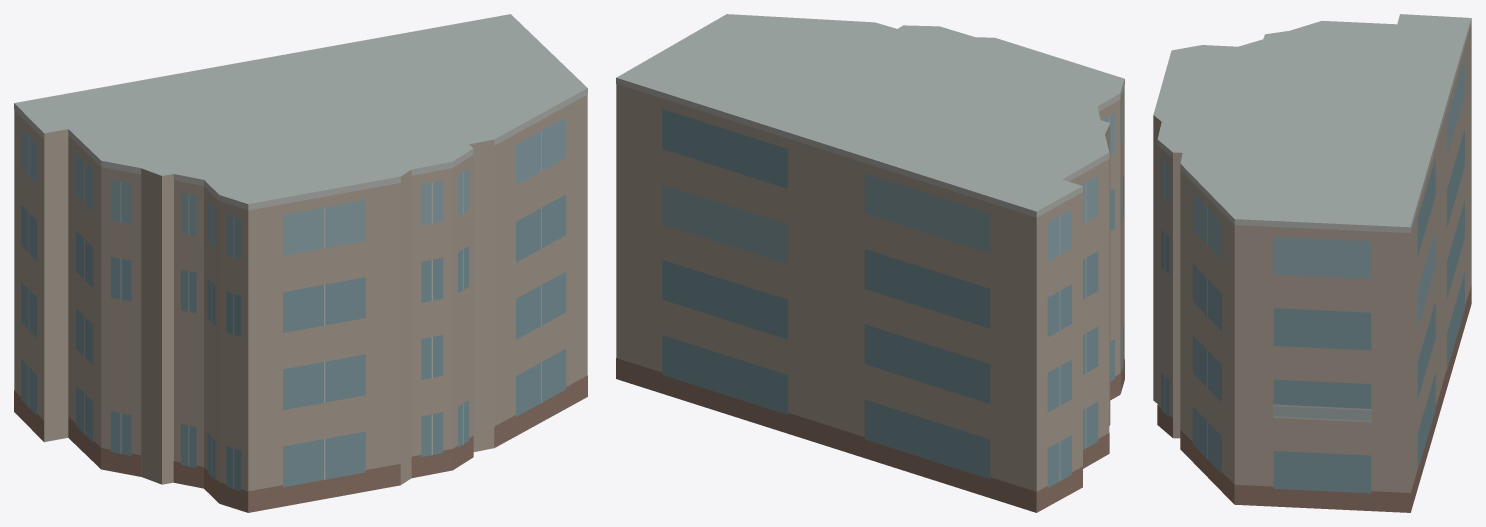
The model's file is survey-upis-32997244.glb.
3 views of the same model, side by side, from view 1: azimuth 30°, elevation 25°; view 2: azimuth 150°, elevation 25°; view 3: azimuth 270°, elevation 25° (orthographic). The views are drawn at different scales.
Parts seen in each view (by area): view 1: survey-upis-32997244.tmp; view 2: survey-upis-32997244.tmp; view 3: survey-upis-32997244.tmp.
Part boxes in pixels (x1,y1,x2,y2): survey-upis-32997244.tmp: (14, 14, 587, 512); survey-upis-32997244.tmp: (616, 14, 1124, 512); survey-upis-32997244.tmp: (1153, 14, 1471, 512).
Bounding box in the file's own units: 18.99 × 11.85 × 11.98.
